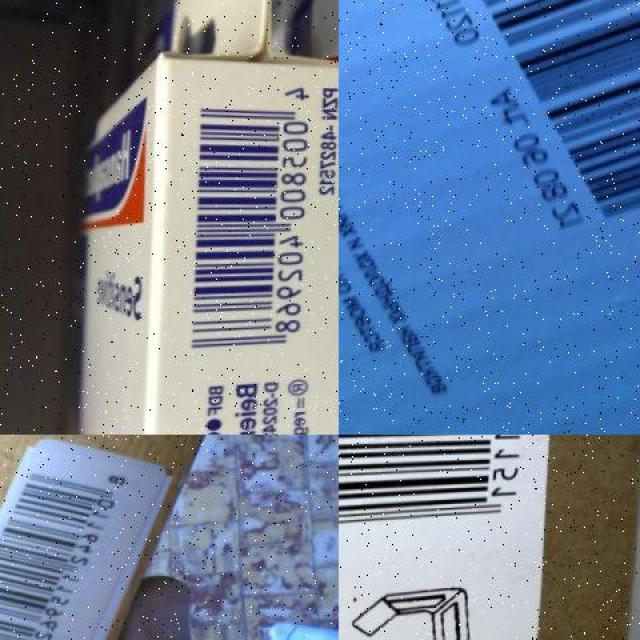Barcode: (402, 0, 640, 240), (175, 76, 320, 367), (0, 445, 144, 640), (338, 434, 550, 546)
